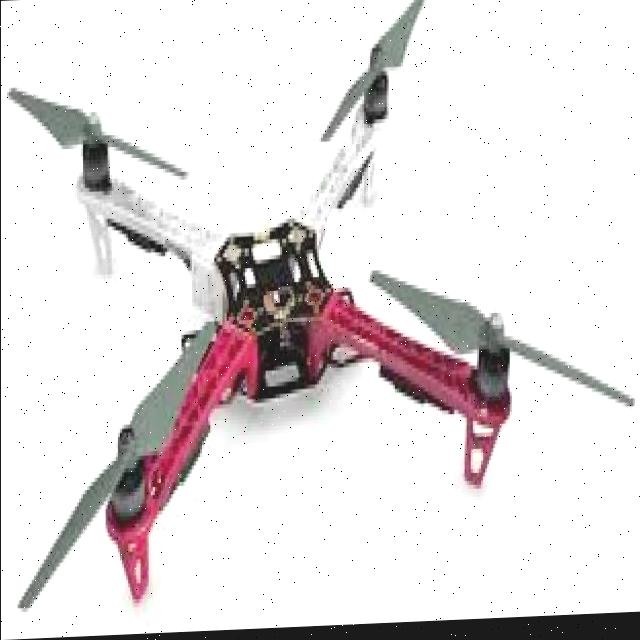drone: (1, 14, 576, 640)
